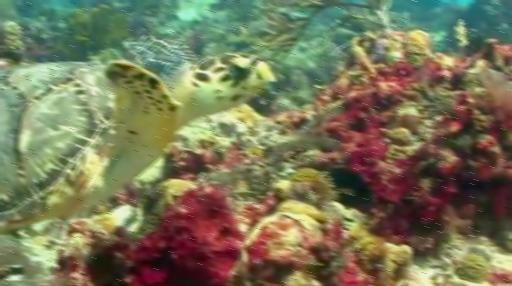Fish: (0, 38, 274, 223)
